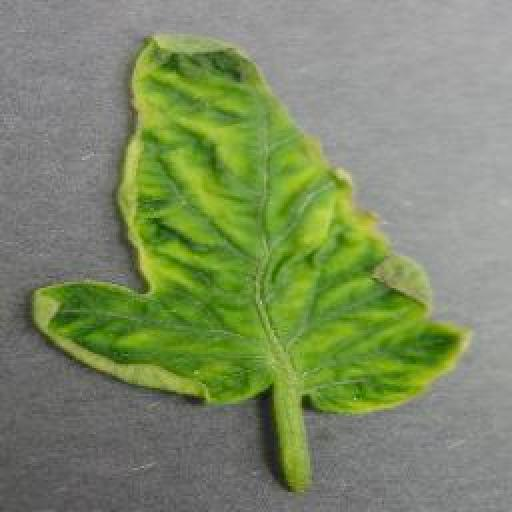disease_tomato: (30, 30, 475, 416)
